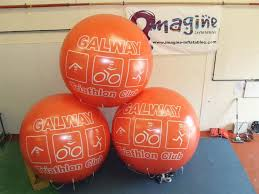buoy: (61, 14, 154, 104), (21, 93, 112, 183), (114, 88, 201, 175)
